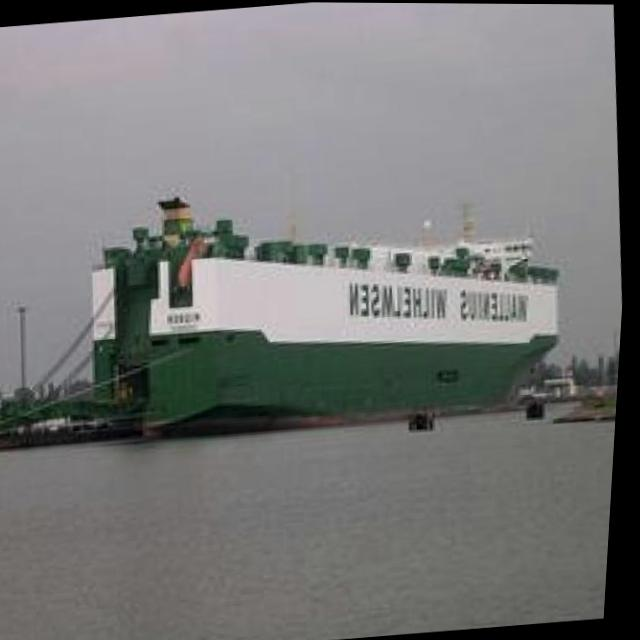ship2: (92, 196, 562, 440)
